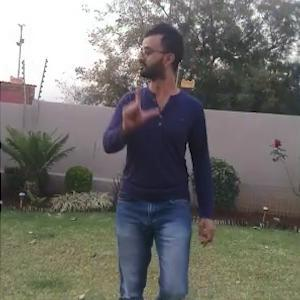land_hand: (115, 72, 161, 134)
